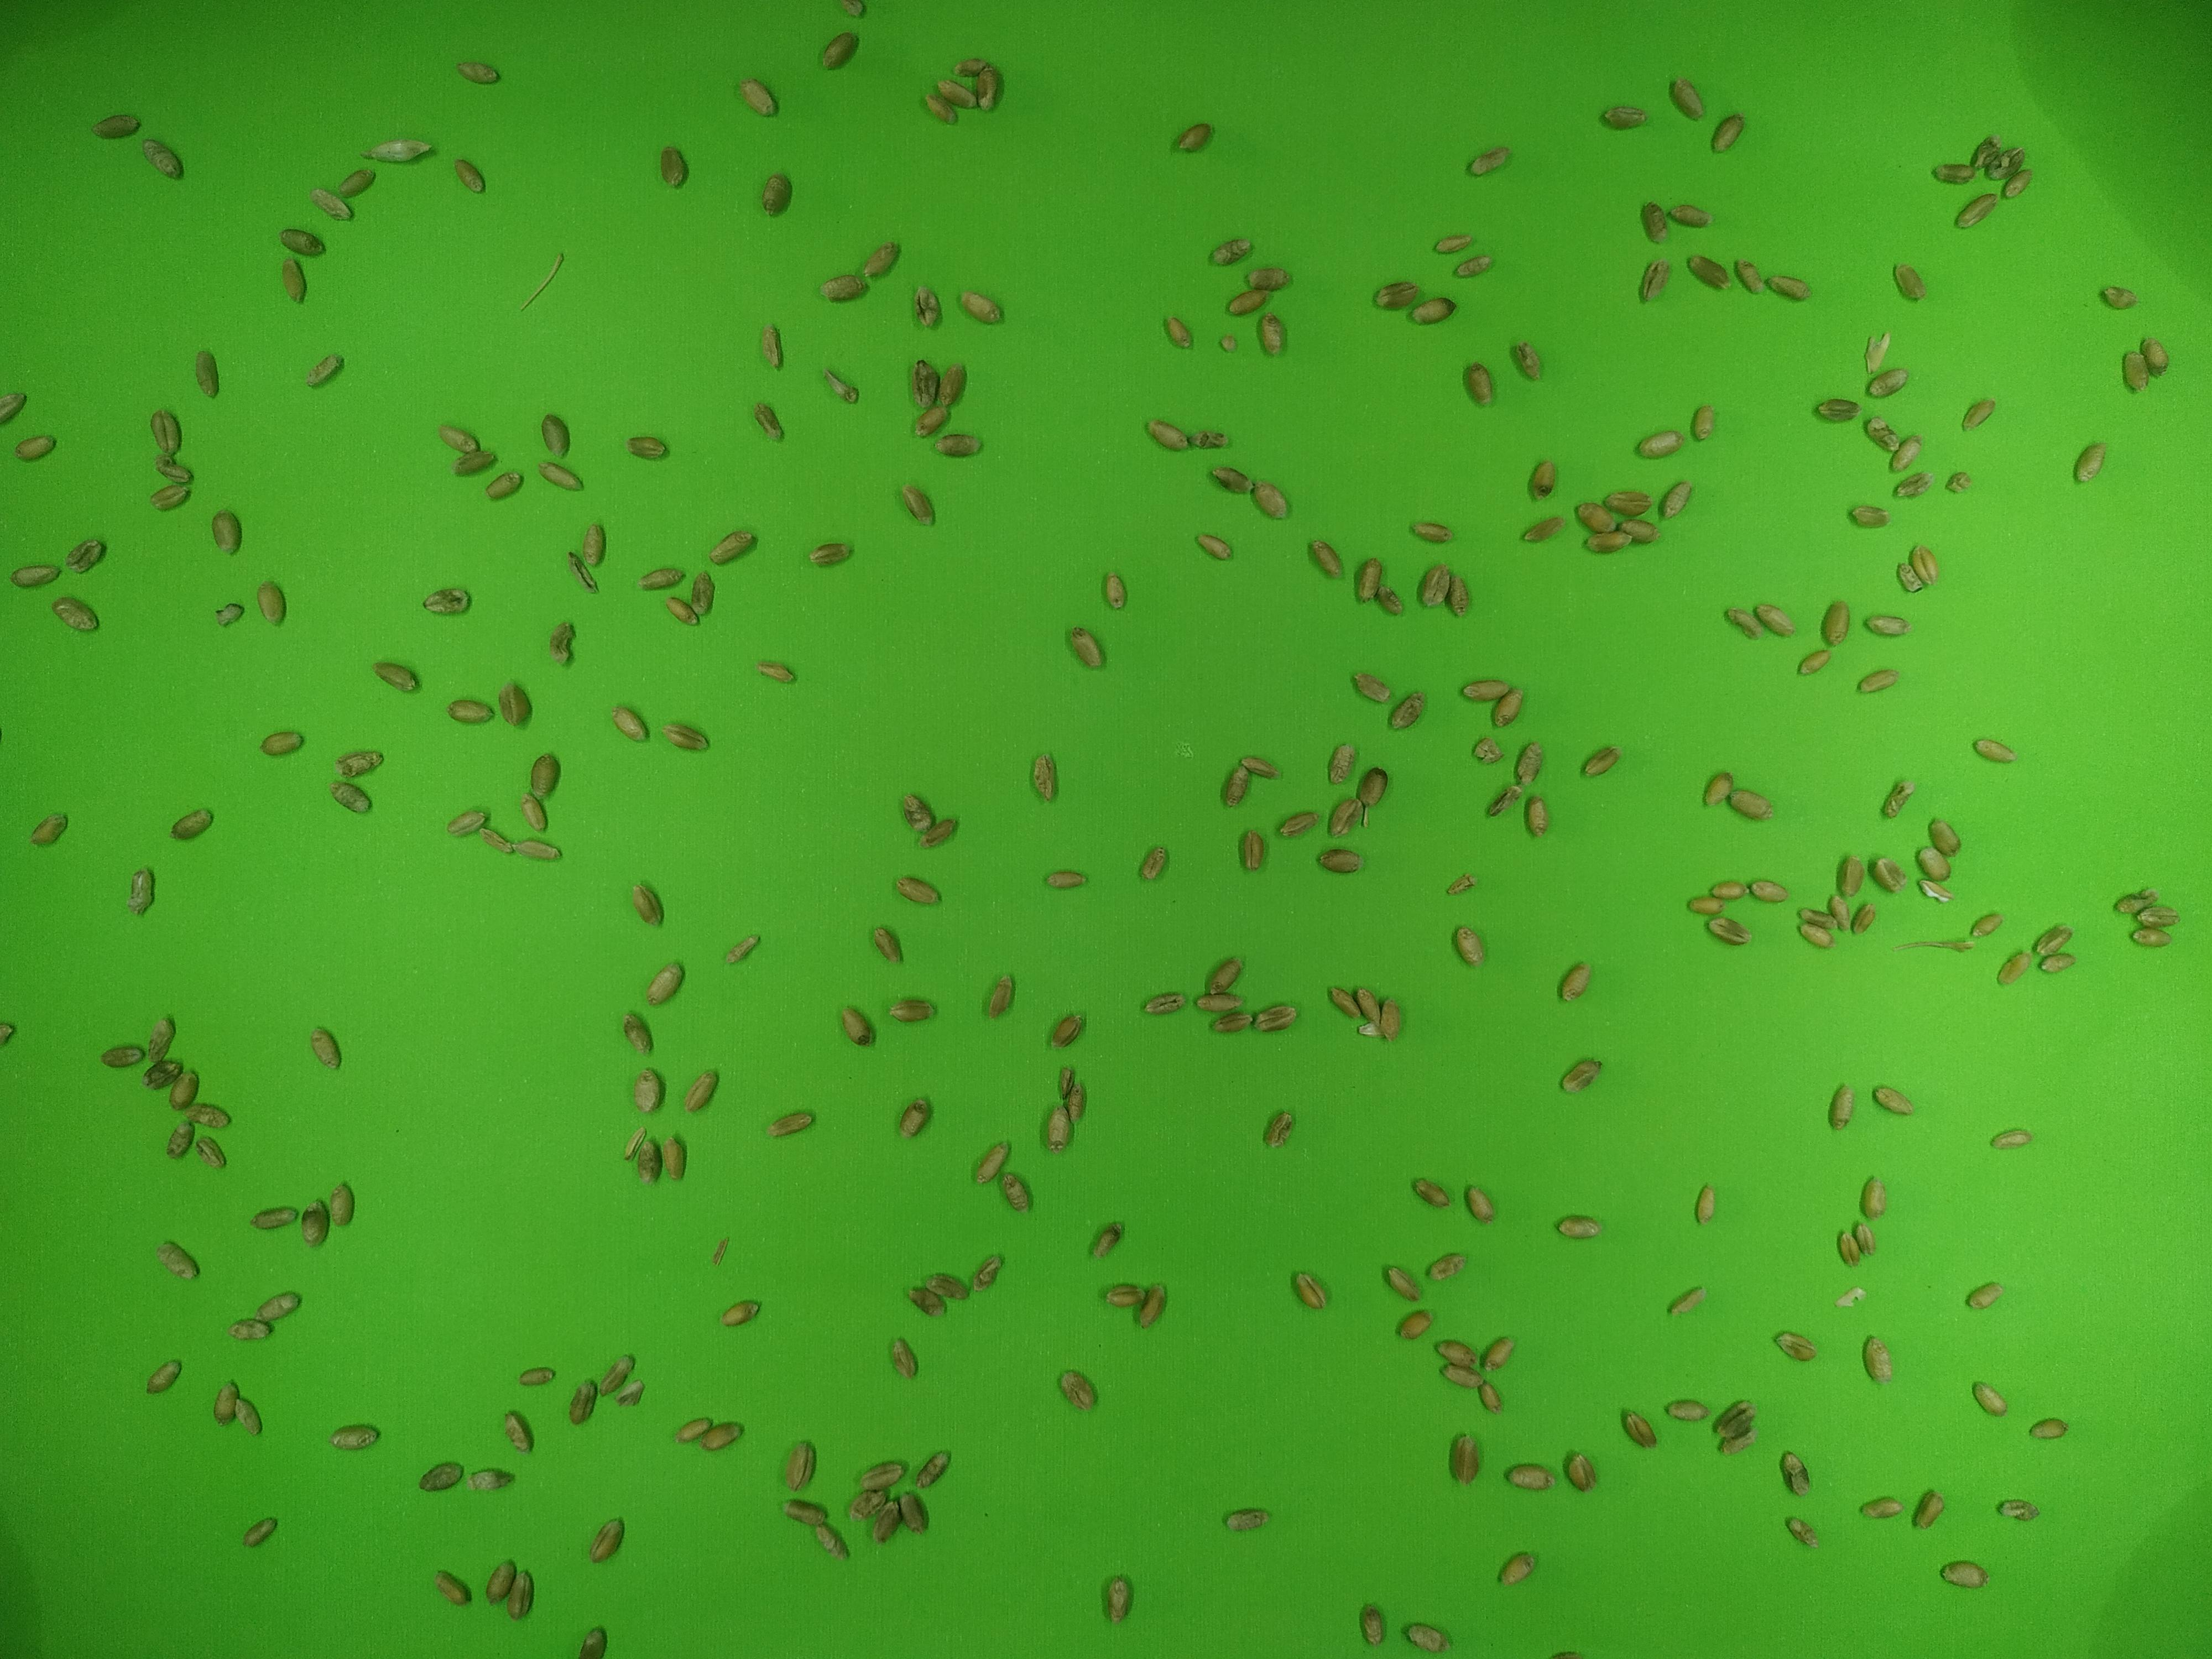bueno: (1447, 914, 1498, 982), (639, 959, 691, 1014), (753, 157, 794, 223), (521, 749, 569, 804), (2125, 896, 2177, 946), (1140, 977, 1188, 1029), (618, 1003, 657, 1065), (716, 925, 767, 972), (156, 1236, 202, 1286), (125, 860, 163, 920), (781, 1441, 823, 1495), (899, 476, 937, 534), (708, 528, 758, 571), (837, 998, 878, 1052), (1053, 1365, 1098, 1412), (1665, 72, 1707, 124), (497, 678, 533, 735), (1043, 1008, 1092, 1051), (985, 967, 1022, 1024), (1061, 623, 1106, 669), (147, 405, 185, 458), (899, 1089, 935, 1146), (1354, 1592, 1387, 1653), (1859, 1335, 1897, 1389), (1445, 1431, 1479, 1489), (1093, 560, 1130, 613), (141, 139, 187, 182), (310, 1024, 344, 1081), (1820, 598, 1858, 649), (143, 1352, 187, 1395), (1464, 140, 1514, 179), (51, 593, 98, 634), (1307, 536, 1347, 584), (498, 1407, 536, 1455), (607, 700, 648, 745), (251, 1289, 306, 1322), (1032, 750, 1062, 810), (952, 289, 1004, 324), (630, 1060, 662, 1117), (737, 76, 780, 118), (1494, 1547, 1537, 1589), (170, 802, 213, 844), (335, 747, 387, 781), (969, 1141, 1010, 1186), (596, 1350, 637, 1394), (1601, 486, 1656, 519), (1287, 1270, 1329, 1313), (1370, 997, 1410, 1042), (1771, 1329, 1822, 1364), (292, 1199, 327, 1250), (330, 1418, 382, 1452), (656, 144, 692, 193), (1858, 660, 1905, 698), (1252, 482, 1293, 525), (855, 1458, 909, 1491), (701, 1417, 752, 1452), (1381, 1260, 1422, 1302), (1727, 786, 1776, 822), (1753, 600, 1798, 638), (818, 270, 869, 304), (2032, 923, 2073, 965), (1044, 1103, 1077, 1154), (442, 806, 492, 841), (821, 28, 859, 72), (148, 1009, 178, 1066), (1893, 258, 1931, 304), (1939, 1557, 1990, 1591), (1141, 419, 1191, 452), (1869, 849, 1906, 896), (1769, 268, 1818, 303), (161, 1113, 196, 1161), (590, 1516, 624, 1565), (807, 535, 852, 572), (889, 994, 938, 1028), (101, 1039, 151, 1073), (899, 1281, 948, 1315), (1370, 279, 1421, 311), (1131, 1282, 1172, 1323), (9, 561, 62, 593), (1658, 478, 1697, 520), (373, 658, 419, 694), (1557, 959, 1595, 1002), (924, 1269, 974, 1302), (247, 1199, 302, 1230), (2073, 439, 2108, 486), (566, 1374, 597, 1428), (1250, 1001, 1301, 1034), (662, 719, 709, 754), (757, 320, 788, 373), (1464, 359, 1498, 409), (1416, 564, 1452, 609), (894, 873, 942, 907), (1504, 1460, 1557, 1491), (1709, 112, 1746, 156), (254, 577, 288, 626), (865, 237, 902, 281), (1639, 257, 1671, 307), (1871, 1083, 1917, 1119), (1876, 776, 1914, 818), (751, 399, 786, 445), (915, 1448, 952, 1491), (460, 1465, 515, 1495), (687, 1067, 722, 1114), (1389, 689, 1425, 733), (1206, 234, 1253, 268), (1688, 255, 1734, 290), (513, 833, 568, 863), (1357, 765, 1391, 811), (765, 1107, 817, 1138), (419, 1459, 465, 1494), (192, 347, 223, 399), (212, 505, 245, 554), (936, 76, 984, 108), (67, 533, 106, 573), (1561, 1451, 1599, 1493), (514, 790, 550, 833), (1599, 101, 1648, 133), (505, 1568, 535, 1620), (782, 1499, 831, 1531), (453, 154, 488, 199), (1634, 429, 1687, 458), (188, 1095, 236, 1128), (456, 53, 499, 88), (628, 882, 664, 926), (1562, 1055, 1601, 1094), (25, 811, 70, 846), (434, 1568, 472, 1609), (881, 1340, 924, 1377), (1411, 293, 1461, 323), (1104, 1572, 1132, 1626), (1350, 670, 1393, 706), (1001, 1167, 1033, 1215), (330, 782, 376, 815), (1210, 955, 1243, 1001), (280, 254, 308, 309), (1361, 977, 1387, 1034), (1910, 1486, 1946, 1528), (309, 184, 351, 220), (1858, 1174, 1890, 1221), (1517, 736, 1548, 785), (1639, 201, 1673, 244), (1822, 1085, 1855, 1129), (1409, 1176, 1453, 1209), (1463, 1180, 1497, 1224), (1526, 457, 1559, 502), (1868, 367, 1913, 400), (867, 919, 901, 962), (302, 353, 341, 392), (171, 1063, 202, 1111), (1494, 684, 1527, 728), (1194, 990, 1251, 1015), (1582, 743, 1621, 780), (1403, 1618, 1444, 1653), (1317, 846, 1365, 875), (1397, 1306, 1436, 1343), (1207, 463, 1250, 497), (542, 409, 571, 459), (1955, 195, 1999, 228), (324, 1181, 353, 1231), (1813, 395, 1860, 426), (1172, 120, 1213, 155), (1355, 556, 1384, 605), (1257, 309, 1286, 358), (1575, 498, 1615, 533), (1973, 735, 2018, 766), (1554, 1212, 1603, 1241), (1693, 1178, 1721, 1227), (2101, 281, 2142, 315), (2138, 335, 2168, 380), (1784, 1514, 1822, 1550), (1136, 843, 1172, 882), (550, 620, 577, 671), (664, 593, 703, 628), (1450, 918, 1478, 967), (1705, 916, 1755, 944), (1523, 795, 1553, 841), (2120, 350, 2150, 397), (1226, 1504, 1271, 1535), (1621, 1409, 1656, 1449), (1915, 844, 1952, 881), (1927, 820, 1964, 857), (1911, 542, 1940, 588), (1583, 531, 1636, 557), (487, 1557, 519, 1600), (457, 445, 499, 477), (1432, 1339, 1478, 1368), (922, 815, 958, 851), (193, 1133, 231, 1168), (540, 459, 583, 489), (1835, 852, 1864, 898), (436, 422, 481, 452), (1525, 514, 1569, 544), (1998, 947, 2032, 986), (1239, 830, 1268, 875), (1863, 612, 1911, 639), (445, 699, 493, 726), (1662, 1396, 1708, 1423), (1280, 806, 1319, 839), (900, 1491, 930, 1533), (675, 1415, 715, 1447), (1963, 396, 1999, 432), (1972, 1379, 2007, 1415), (1196, 530, 1233, 564), (1435, 1363, 1488, 1387), (948, 53, 994, 80), (640, 566, 686, 593), (281, 229, 326, 257), (1699, 771, 1735, 807), (817, 1523, 851, 1560), (13, 434, 56, 463), (94, 113, 141, 140), (1240, 752, 1286, 779), (1104, 1277, 1146, 1307), (1462, 679, 1511, 705), (234, 1397, 264, 1439), (243, 1516, 280, 1549), (978, 64, 1003, 113), (218, 1375, 244, 1423), (1227, 288, 1267, 318), (261, 728, 304, 756), (1824, 889, 1851, 934), (1618, 519, 1668, 543), (665, 1128, 687, 1183), (147, 486, 190, 513), (1221, 764, 1247, 810), (1211, 1009, 1256, 1035), (230, 1315, 273, 1343), (1737, 255, 1766, 297), (1964, 1281, 2004, 1311), (1833, 1228, 1864, 1265), (584, 520, 608, 570), (1705, 878, 1753, 903), (1669, 202, 1714, 228), (1850, 505, 1888, 536), (917, 402, 951, 437), (721, 1299, 760, 1329), (1859, 1495, 1905, 1520), (577, 1623, 608, 1659), (1244, 267, 1293, 290), (479, 822, 514, 854), (1668, 1284, 1704, 1316), (921, 93, 958, 124), (1795, 649, 1832, 680), (1797, 923, 1834, 953), (487, 469, 524, 500), (2005, 166, 2037, 201), (1430, 233, 1479, 255), (1747, 877, 1789, 903), (1797, 905, 1839, 931), (1988, 1126, 2034, 1149), (2030, 1413, 2069, 1439), (1934, 160, 1978, 184), (1411, 519, 1454, 543), (756, 658, 796, 684), (1691, 401, 1716, 442), (514, 1360, 555, 1386), (1485, 1335, 1514, 1370), (627, 436, 667, 462), (1328, 985, 1360, 1016), (1851, 896, 1877, 935), (1688, 892, 1723, 920), (1457, 255, 1494, 281), (1971, 911, 2006, 939), (1479, 1378, 1504, 1415), (1043, 868, 1089, 888), (1851, 1219, 1875, 1257), (346, 169, 377, 198), (1164, 318, 1191, 351), (619, 1376, 647, 1408), (2040, 951, 2076, 975), (1002, 1021, 1008, 1029), (1650, 249, 1655, 258), (1170, 863, 1180, 864)
danado: (1712, 1396, 1761, 1454), (424, 583, 473, 619), (1262, 1105, 1297, 1156), (1060, 1065, 1092, 1120), (1866, 412, 1903, 457), (1988, 142, 2029, 182), (912, 353, 940, 412), (909, 284, 944, 330), (1324, 738, 1359, 783), (567, 547, 602, 593), (144, 1055, 184, 1093), (938, 356, 966, 411), (1893, 469, 1937, 503), (1425, 1245, 1467, 1280), (1512, 340, 1542, 386), (874, 1493, 901, 1545), (154, 453, 197, 486), (1723, 605, 1763, 640), (638, 1131, 663, 1186), (1091, 1221, 1123, 1264), (900, 792, 933, 833), (850, 1484, 888, 1520), (934, 434, 985, 460), (1995, 1495, 2039, 1525), (1893, 433, 1922, 477), (1488, 782, 1521, 819), (1446, 573, 1474, 617), (972, 1249, 1003, 1286), (690, 571, 715, 617), (1971, 135, 2002, 170), (213, 599, 243, 631), (1895, 561, 1922, 595), (1189, 430, 1233, 450), (1378, 585, 1406, 613), (1948, 471, 1975, 497)
impureza: (518, 251, 565, 315), (362, 139, 434, 168), (820, 368, 865, 404), (1778, 1451, 1812, 1498), (1324, 798, 1361, 836), (1861, 326, 1891, 374), (1893, 940, 1974, 954), (1915, 876, 1955, 904), (1444, 870, 1478, 896), (1472, 735, 1502, 760), (1837, 1284, 1865, 1310), (1218, 331, 1238, 355)
